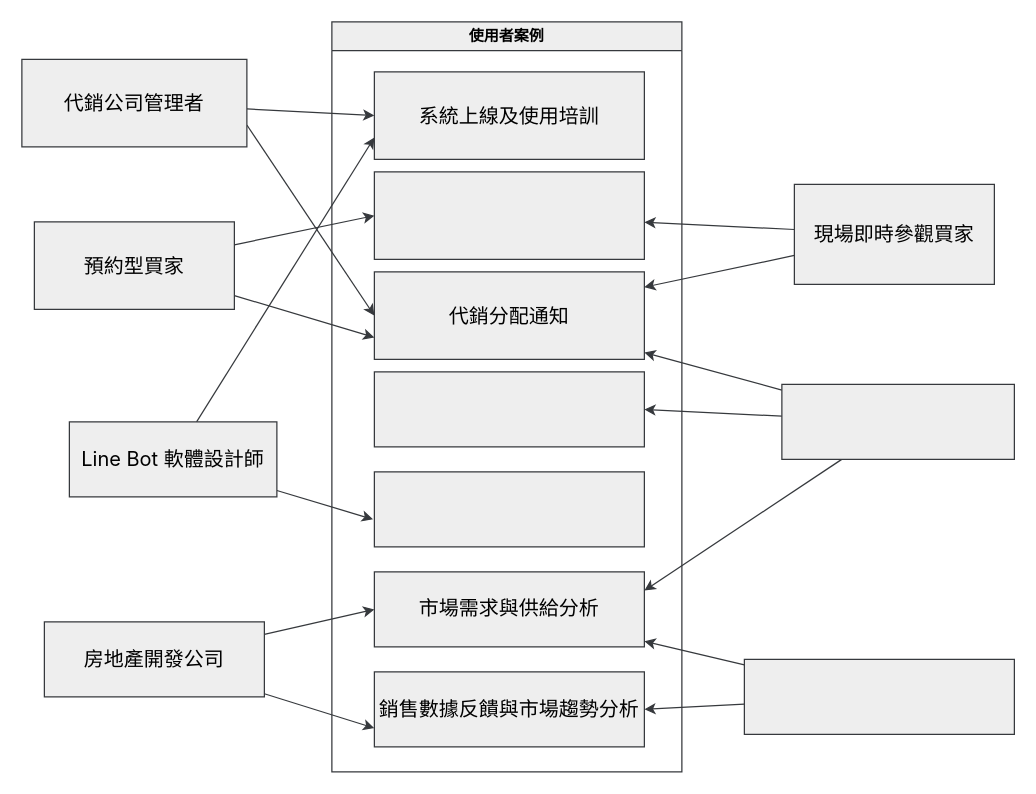
Some shapes in this 1036 by 794 pixel diagram are drawn without their labels. The shapes that lost their labels are listed below. From the top down, each one's box as (x1, y1, x2, y2) in pixels, then its label:
(373, 171, 644, 259): 預約成功/失敗通知
(373, 371, 644, 447): 申請審核與代銷分配決策
(781, 383, 1014, 459): 代銷管理者
(373, 471, 644, 547): 系統開發與更新維護
(743, 658, 1014, 734): 房地產買賣市場
